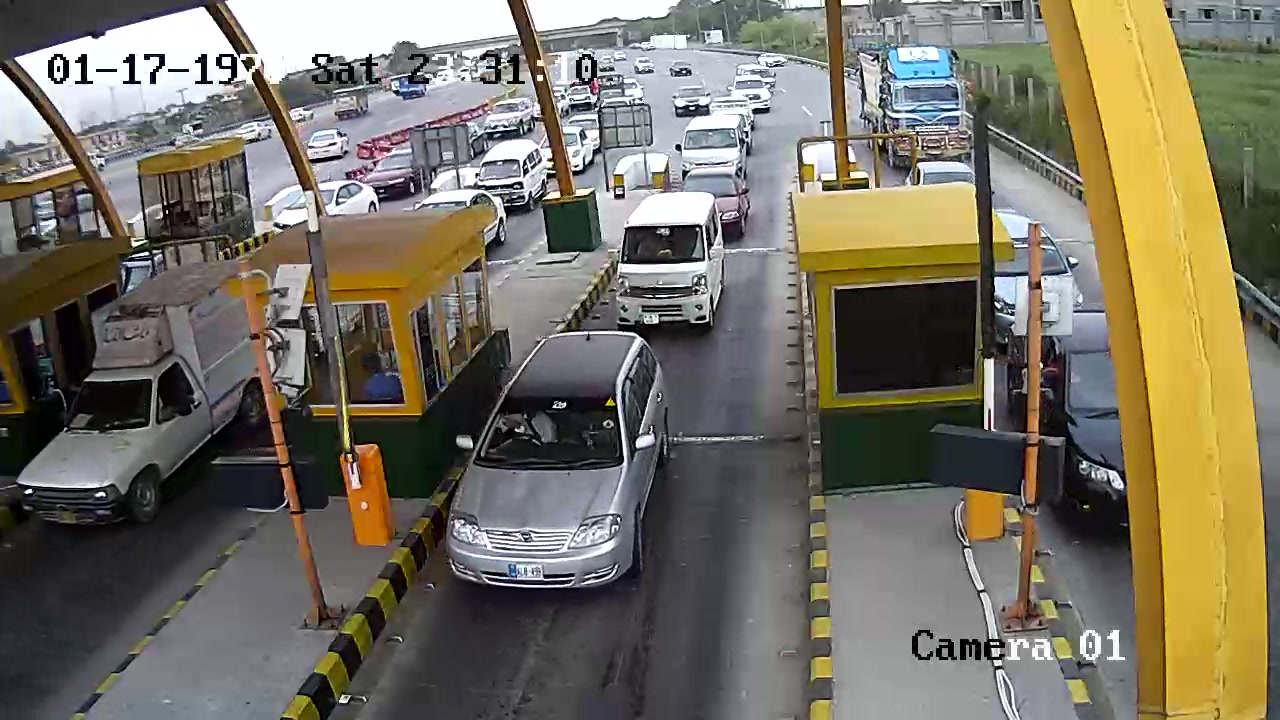F1: (419, 328, 701, 612), (598, 188, 736, 338)
